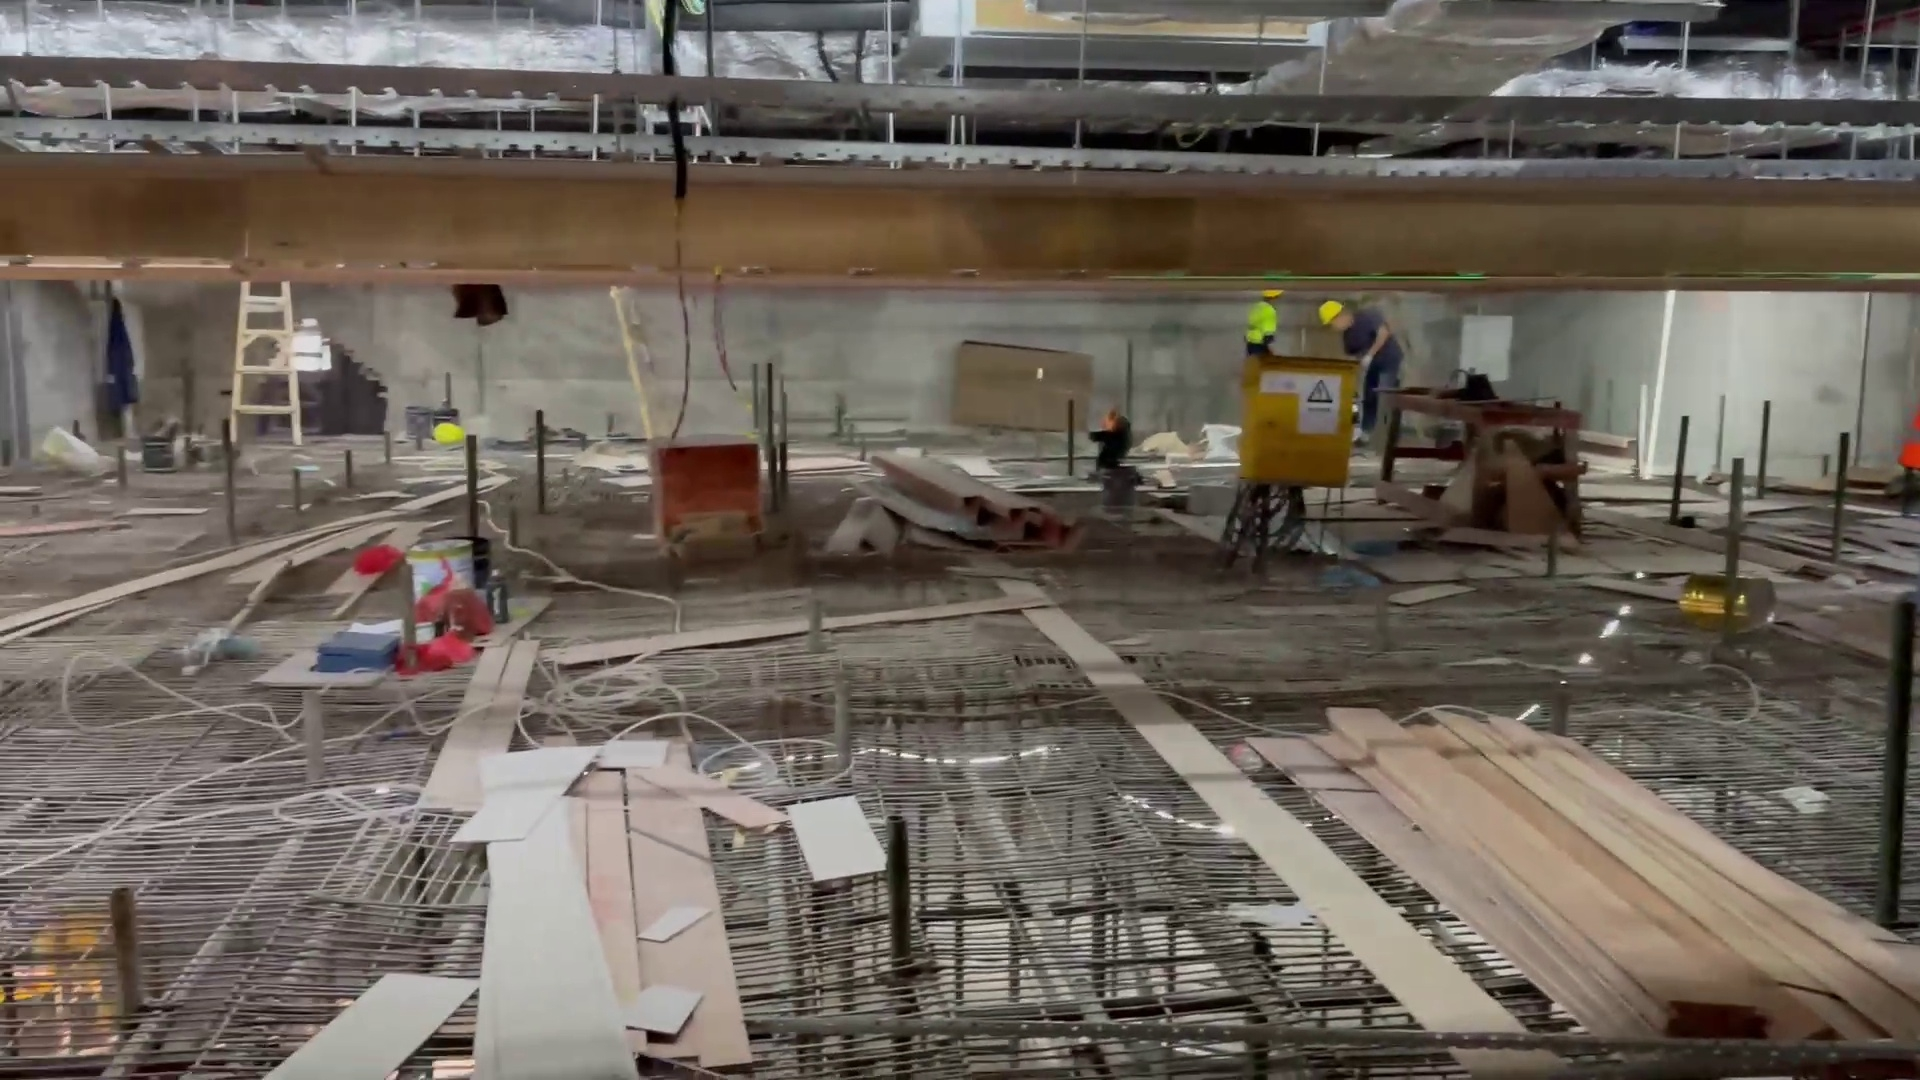board: (1270, 711, 1893, 1065)
cutter: (1379, 360, 1591, 541)
ebox: (1212, 354, 1374, 572)
helmet: (427, 417, 472, 443), (1314, 301, 1342, 327), (1256, 282, 1287, 296)
person: (1306, 280, 1412, 447), (1232, 262, 1291, 380)
vest: (1903, 398, 1920, 472), (1249, 303, 1280, 343)
